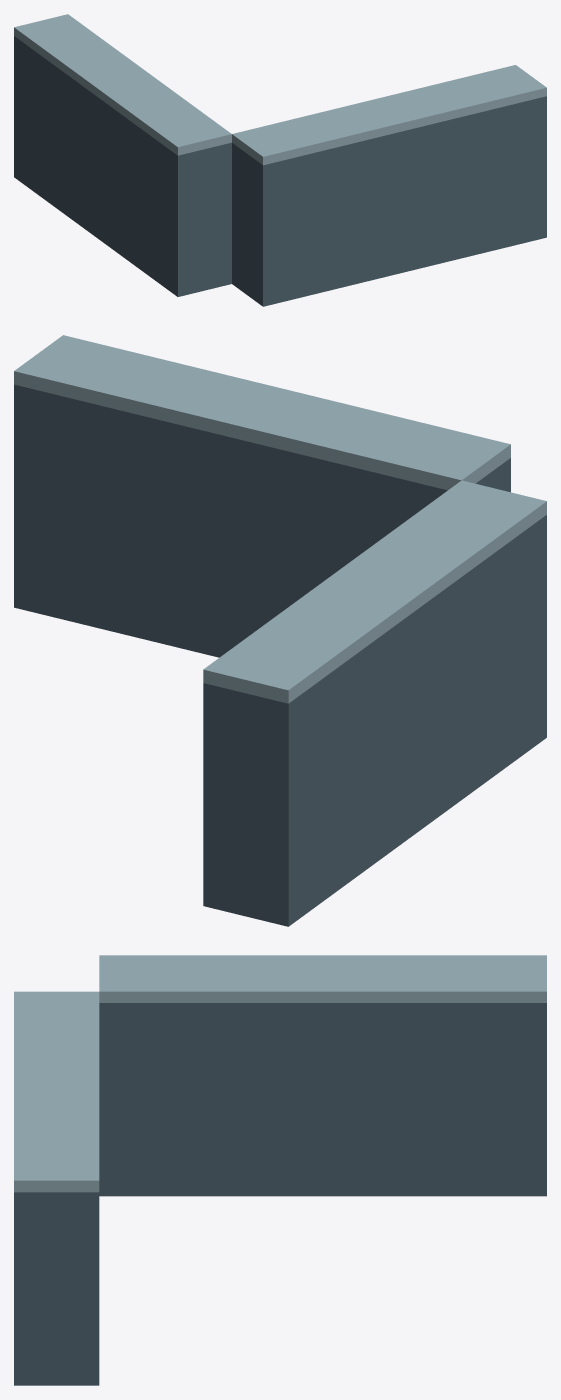
Rendered from floor_inner_corner.glb.
The picture shows the model from 3 angles, top to bottom: view 1: azimuth 30°, elevation 25°; view 2: azimuth 150°, elevation 25°; view 3: azimuth 270°, elevation 25°; orthographic projection. The views are drawn at different scales.
Visible parts, largest first — view 1: SouthFascia, WestFascia, SouthTrim, WestTrim; view 2: WestFascia, SouthFascia, SouthTrim, WestTrim; view 3: WestFascia, WestTrim, SouthTrim, SouthFascia.
Part boxes in pixels (bbox=[...]): SouthFascia: bbox=[232, 96, 546, 306]; WestFascia: bbox=[14, 36, 231, 296]; SouthTrim: bbox=[232, 65, 546, 165]; WestTrim: bbox=[14, 14, 231, 155]; WestFascia: bbox=[203, 515, 546, 926]; SouthFascia: bbox=[14, 384, 510, 657]; SouthTrim: bbox=[14, 335, 510, 490]; WestTrim: bbox=[203, 480, 546, 703]; WestFascia: bbox=[99, 1003, 546, 1196]; WestTrim: bbox=[99, 955, 546, 1002]; SouthTrim: bbox=[14, 991, 99, 1192]; SouthFascia: bbox=[14, 1192, 99, 1385].
Bounding box in the file's own units: 2 × 0.848 × 2.
